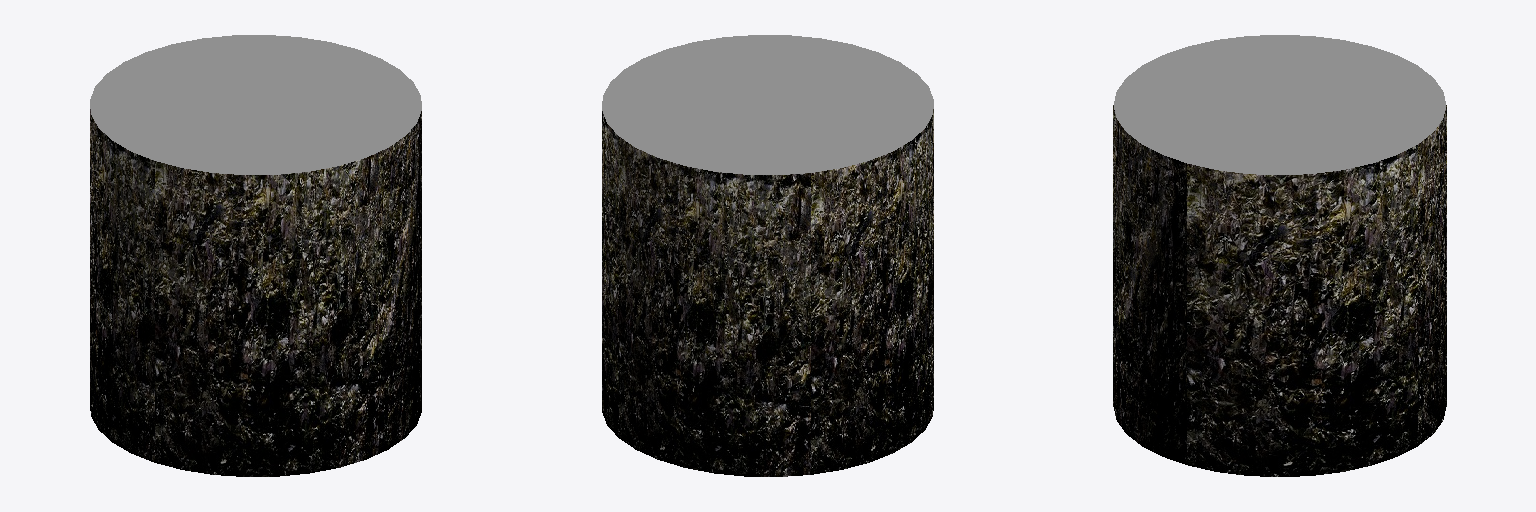
3 renders of one model, left to right at view 1: azimuth 30°, elevation 25°; view 2: azimuth 150°, elevation 25°; view 3: azimuth 270°, elevation 25°, orthographic.
Parts seen in each view (by area): view 1: Cylinder_Cylinder.002; view 2: Cylinder_Cylinder.002; view 3: Cylinder_Cylinder.002.
Part boxes in pixels (left/top/right/bottom): Cylinder_Cylinder.002: left=90, top=35, right=421, bottom=476; Cylinder_Cylinder.002: left=602, top=35, right=933, bottom=476; Cylinder_Cylinder.002: left=1113, top=35, right=1446, bottom=476.
Bounding box in the file's own units: 0.2572 × 0.2572 × 0.2572.
2 materials, 1 textured.